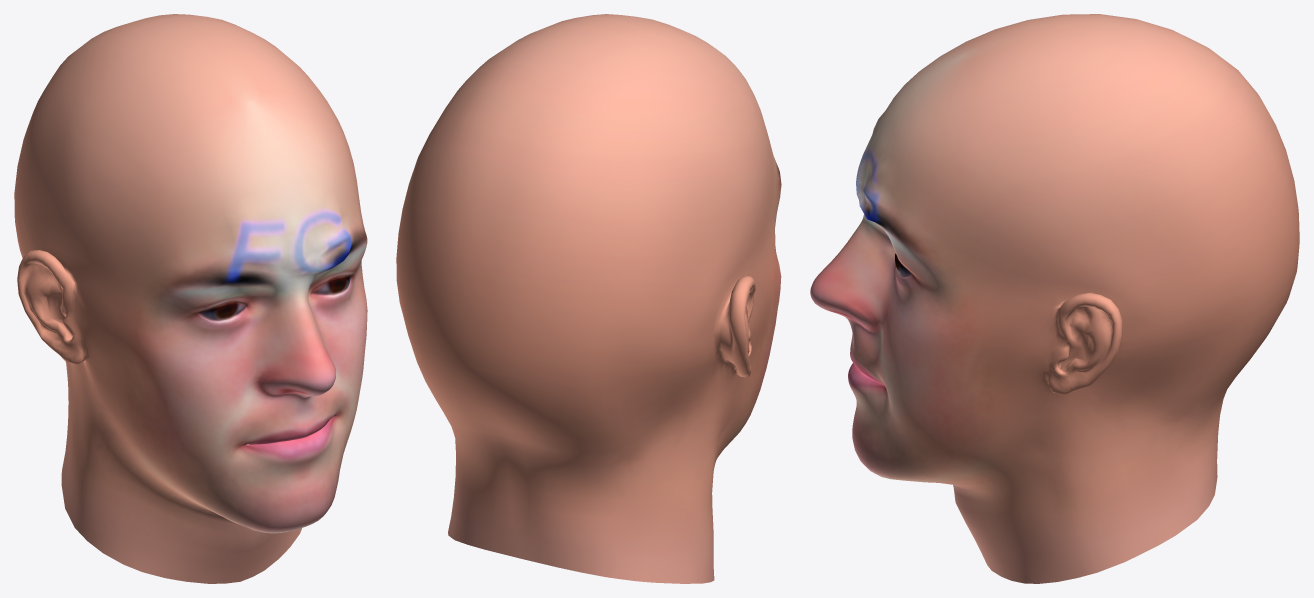
Rendered from random_anyrace_anysex_03.obj.
The picture shows the model from 3 angles, left to right: view 1: azimuth 30°, elevation 25°; view 2: azimuth 150°, elevation 25°; view 3: azimuth 270°, elevation 25°; orthographic projection. The views are drawn at different scales.
Parts seen in each view (by area): view 1: HeadHires; view 2: HeadHires; view 3: HeadHires.
Part boxes in pixels (x1,y1,x2,y2): HeadHires: [14, 14, 367, 583]; HeadHires: [396, 14, 781, 583]; HeadHires: [810, 14, 1299, 583].
Size of the model in its own units: 184 by 283 by 237.
1 material, 1 textured.
